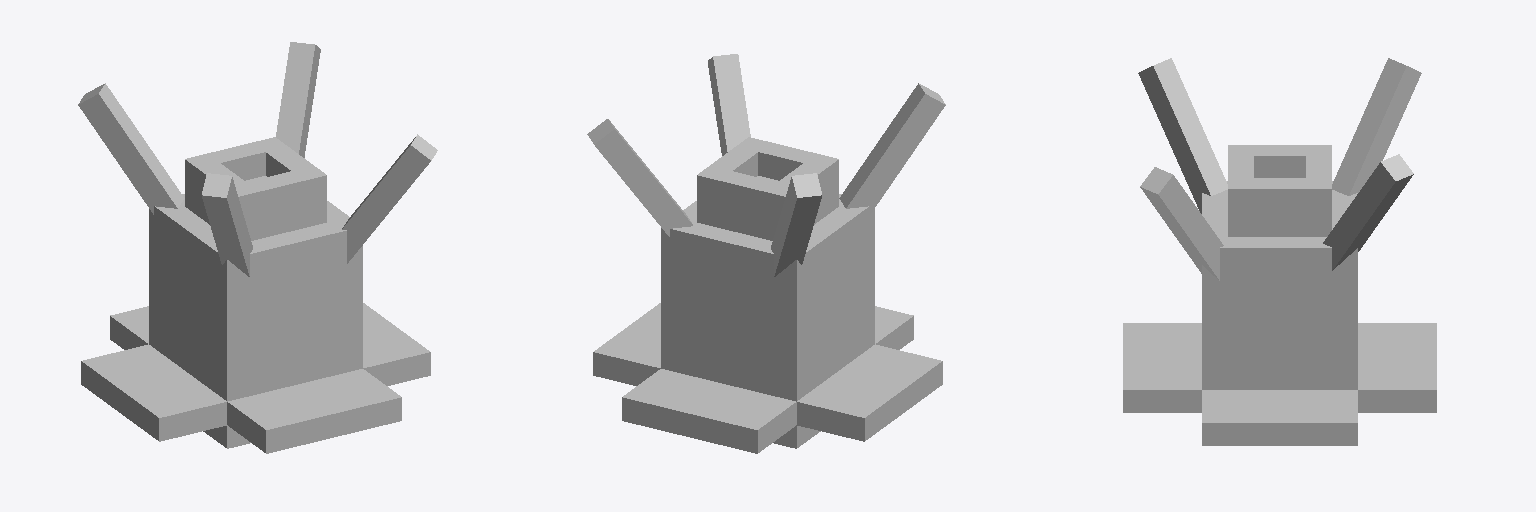
The model's file is dreadaltartop.obj.
3 renders of one model, left to right at view 1: azimuth 30°, elevation 25°; view 2: azimuth 150°, elevation 25°; view 3: azimuth 270°, elevation 25°, orthographic.
Parts seen in each view (by area): view 1: head, side1, side3, bowl1, bighorn1, side4, bighorn2, bighorn3, bighorn4, bowl2, side2, bowl3 (+1 smaller); view 2: head, side2, side3, bowl2, bighorn4, bighorn3, side4, bighorn1, bighorn2, bowl1, side1, bowl3 (+1 smaller); view 3: head, side4, side2, side1, bighorn4, bighorn1, bighorn3, bighorn2, bowl3, bowl1, bowl2, bowl4.
Part boxes in pixels (bbox=[...]): head: bbox=[149, 194, 362, 448]; side1: bbox=[227, 369, 401, 453]; side3: bbox=[81, 344, 226, 441]; bowl1: bbox=[235, 166, 326, 240]; bighorn1: bbox=[78, 83, 184, 214]; side4: bbox=[363, 303, 430, 385]; bighorn2: bbox=[342, 134, 437, 263]; bighorn3: bbox=[276, 42, 320, 157]; bighorn4: bbox=[202, 173, 252, 276]; bowl2: bbox=[185, 137, 287, 215]; side2: bbox=[110, 306, 148, 349]; bowl3: bbox=[266, 147, 313, 176]; head: bbox=[661, 194, 874, 448]; side2: bbox=[622, 369, 796, 453]; side3: bbox=[797, 344, 942, 441]; bowl2: bbox=[697, 166, 788, 240]; bighorn4: bbox=[839, 83, 945, 214]; bighorn3: bbox=[587, 119, 692, 236]; side4: bbox=[593, 303, 660, 385]; bighorn1: bbox=[771, 173, 821, 276]; bighorn2: bbox=[708, 54, 750, 155]; bowl1: bbox=[736, 137, 838, 215]; side1: bbox=[875, 306, 913, 349]; bowl3: bbox=[710, 147, 757, 176]; head: bbox=[1202, 181, 1357, 389]; side4: bbox=[1202, 390, 1357, 445]; side2: bbox=[1358, 323, 1436, 412]; side1: bbox=[1123, 323, 1201, 412]; bighorn4: bbox=[1138, 58, 1227, 213]; bighorn1: bbox=[1332, 58, 1421, 195]; bighorn3: bbox=[1323, 154, 1413, 270]; bighorn2: bbox=[1140, 167, 1223, 280]; bowl3: bbox=[1254, 178, 1305, 236]; bowl1: bbox=[1228, 145, 1253, 236]; bowl2: bbox=[1306, 145, 1331, 236]; bowl4: bbox=[1254, 145, 1305, 177].
Size of the model in its own units: 0.75 by 0.7805 by 0.75.